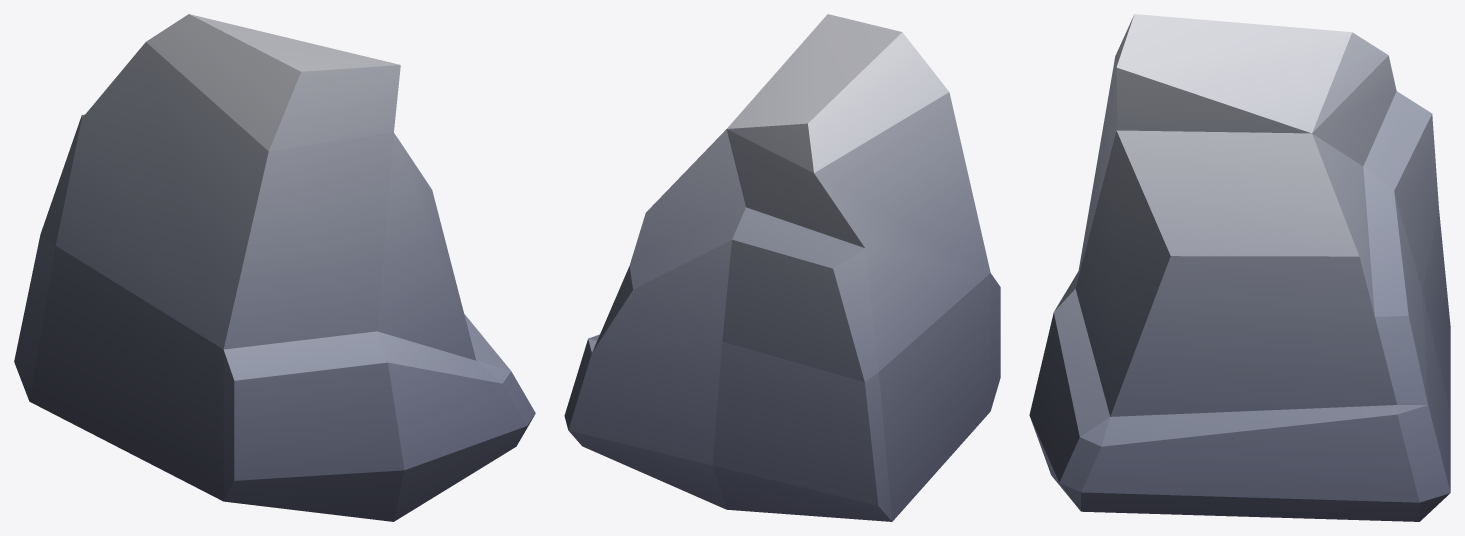
Rendered from Rock_2.fbx.
The picture shows the model from 3 angles, left to right: view 1: azimuth 30°, elevation 25°; view 2: azimuth 150°, elevation 25°; view 3: azimuth 270°, elevation 25°; orthographic projection. The views are drawn at different scales.
Visible parts, largest first — view 1: Rock_2; view 2: Rock_2; view 3: Rock_2.
Boxes of the visible parts, x1,y1,x2,y2 form: Rock_2: (14,14,535,521); Rock_2: (564,14,1000,521); Rock_2: (1029,14,1450,521).
Bounding box in the file's own units: 0.5614 × 0.6456 × 0.565.
